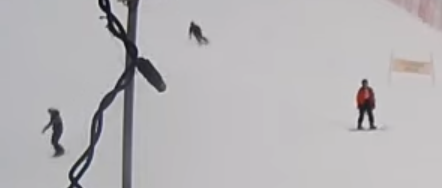skier: (32, 100, 78, 167), (176, 13, 221, 55)
snowboarder: (333, 69, 397, 140)
